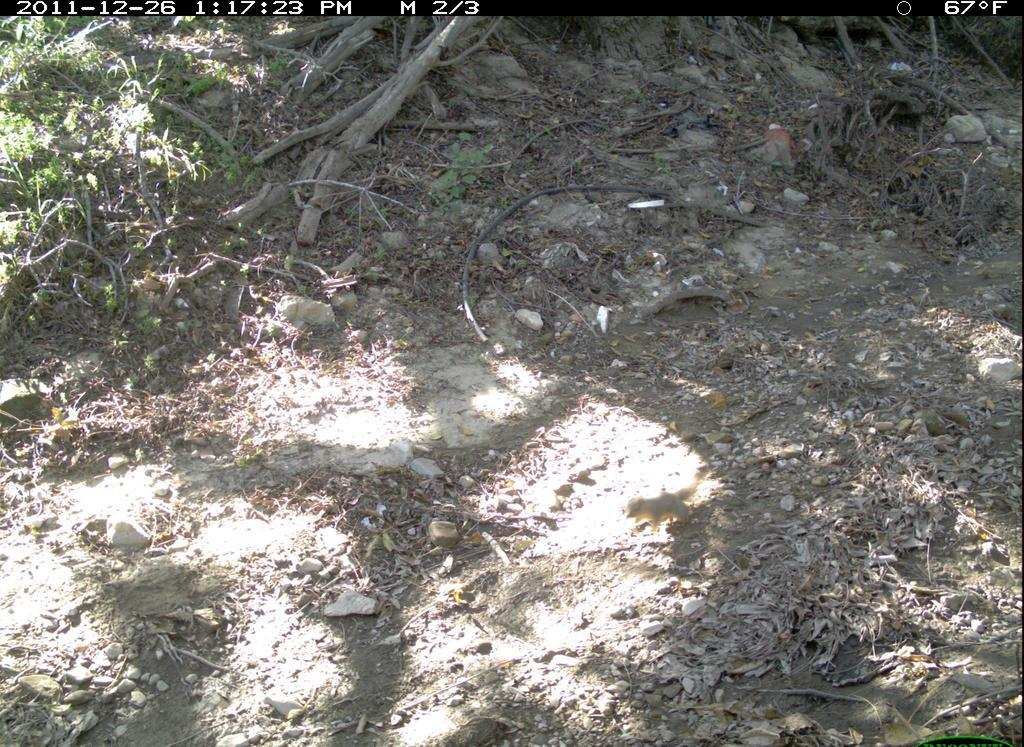squirrel: (618, 467, 712, 537)
